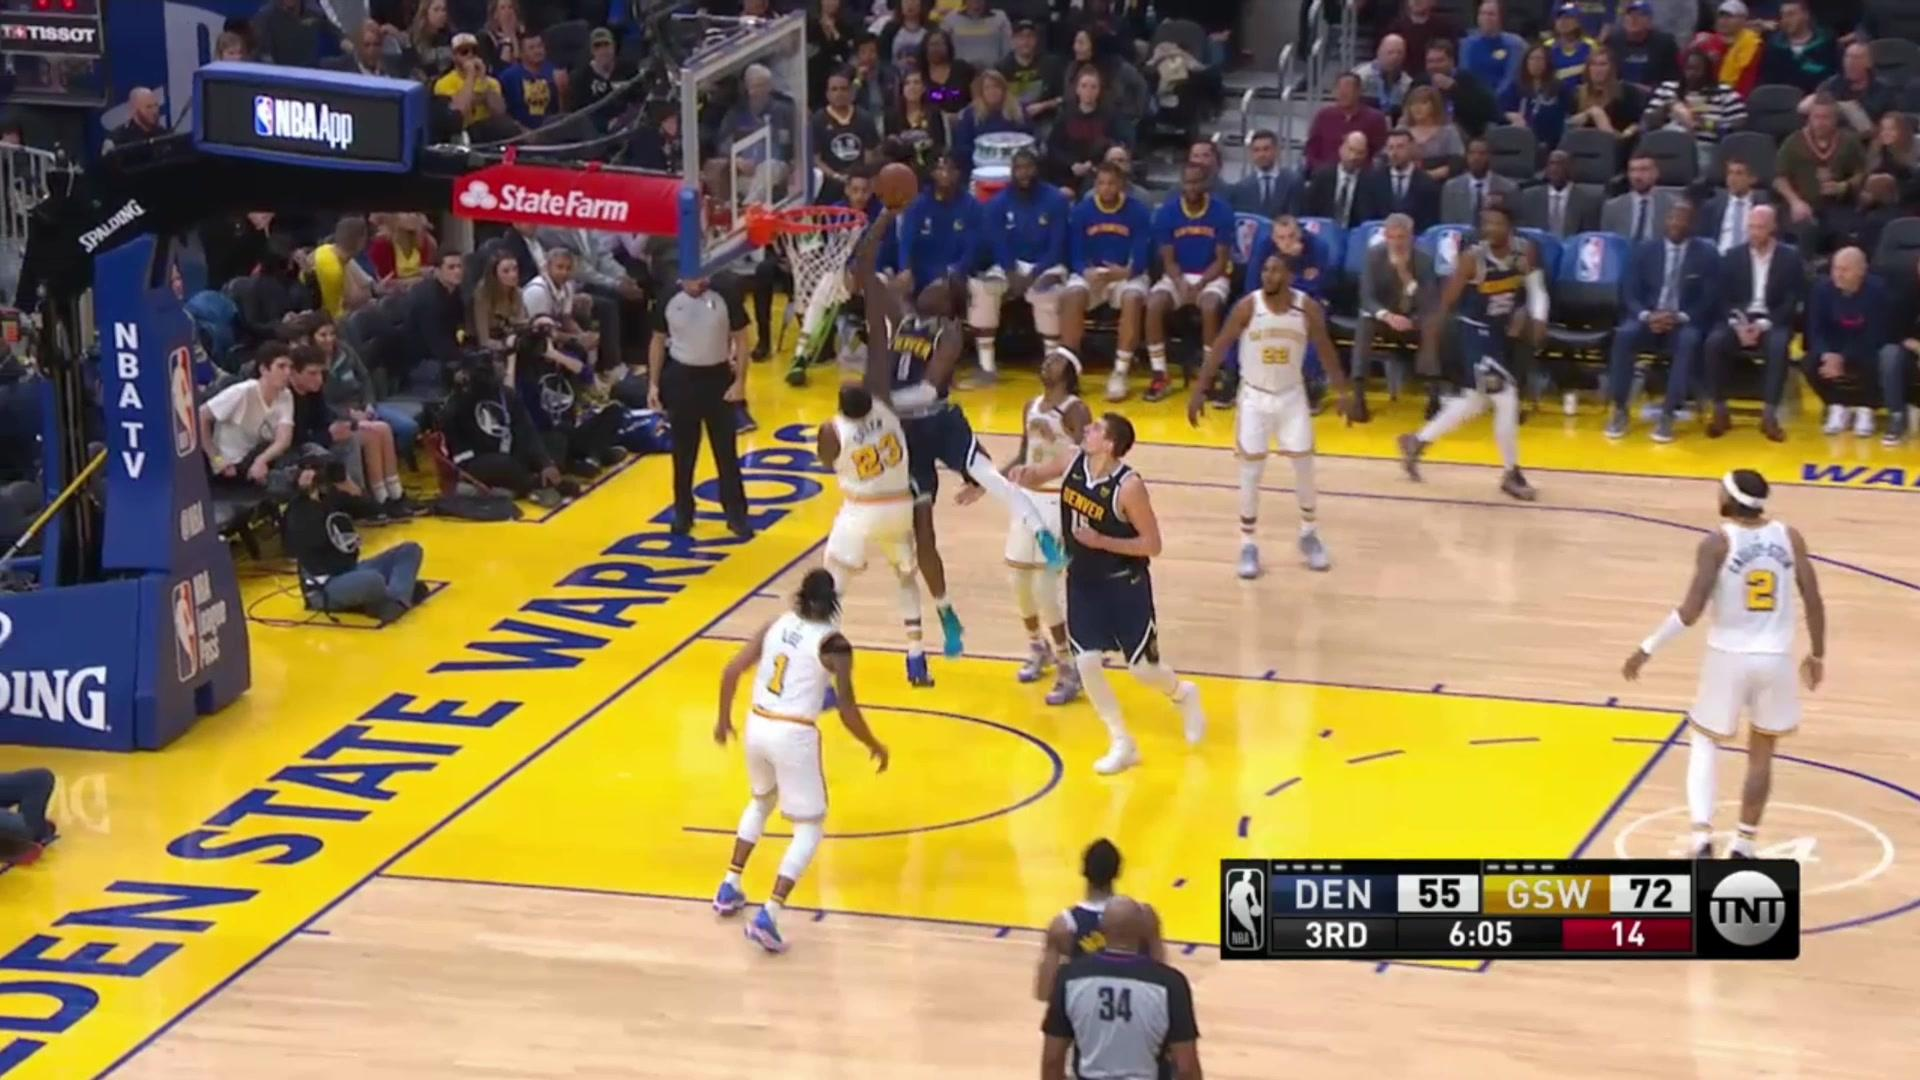foul: (836, 258, 997, 638)
